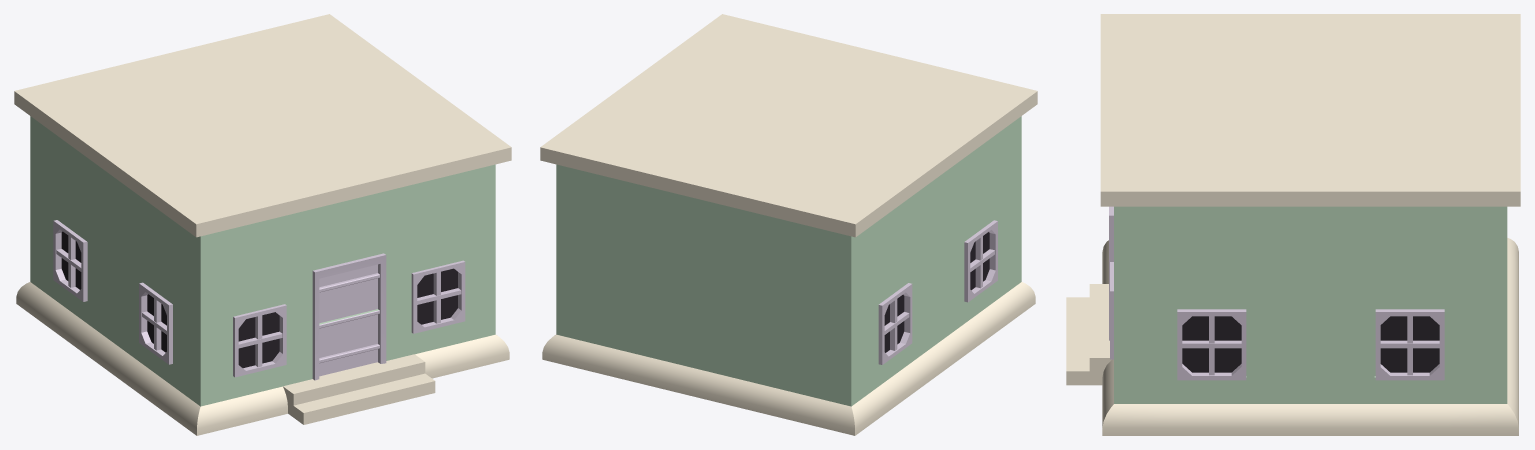
The model's file is house sage green.fbx.
The picture shows the model from 3 angles, left to right: view 1: azimuth 30°, elevation 25°; view 2: azimuth 150°, elevation 25°; view 3: azimuth 270°, elevation 25°; orthographic projection. The views are drawn at different scales.
Parts seen in each view (by area): view 1: Cube; view 2: Cube; view 3: Cube.
Boxes of the visible parts, left/top/right/bottom form: Cube: left=14, top=14, right=511, bottom=435; Cube: left=540, top=14, right=1037, bottom=435; Cube: left=1066, top=14, right=1520, bottom=435.
Size of the model in its own units: 9.21 by 5.93 by 9.96.
